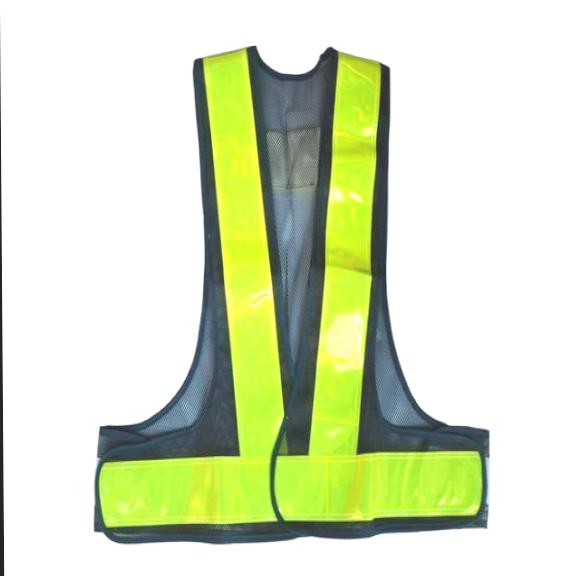safety_vest: (88, 39, 492, 547)
